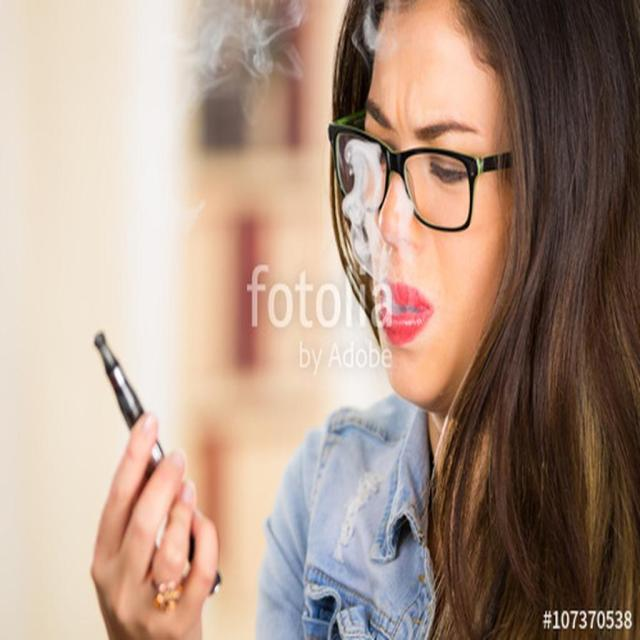smoking: (86, 4, 635, 619)
